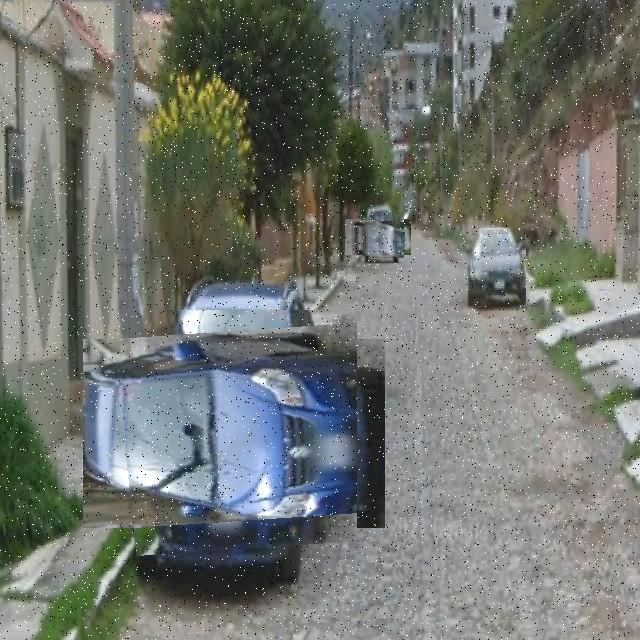car: (112, 311, 358, 557), (470, 229, 527, 308), (353, 213, 405, 264)
